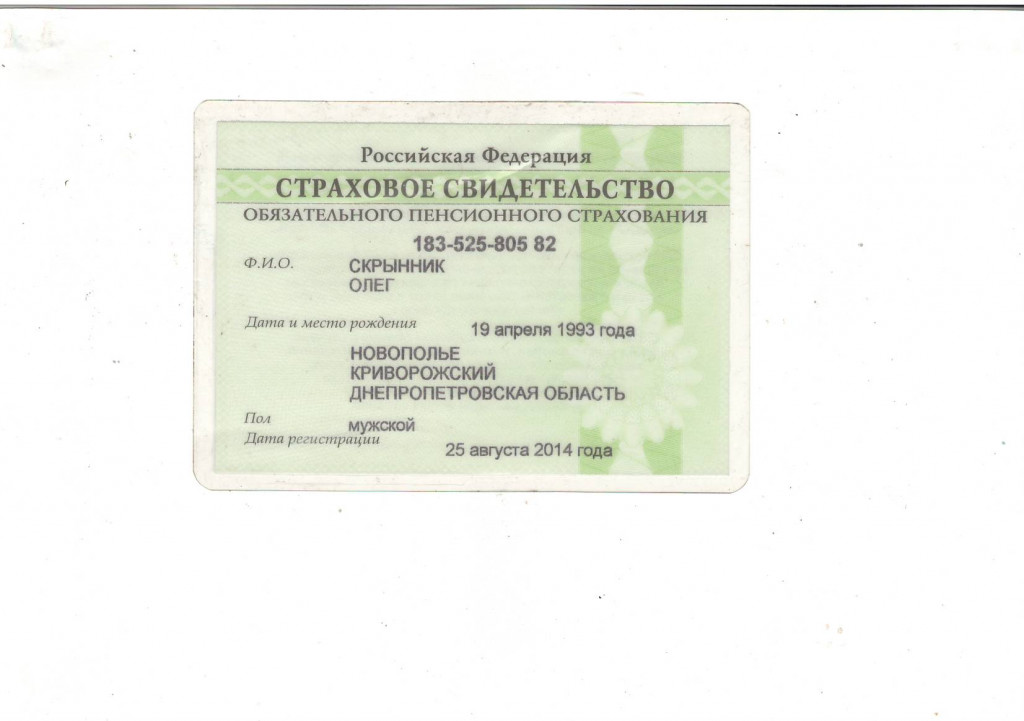text: (347, 342, 632, 404), (470, 317, 640, 342), (443, 439, 618, 461), (410, 230, 563, 255), (346, 253, 449, 275), (344, 415, 420, 436), (346, 276, 399, 294)
